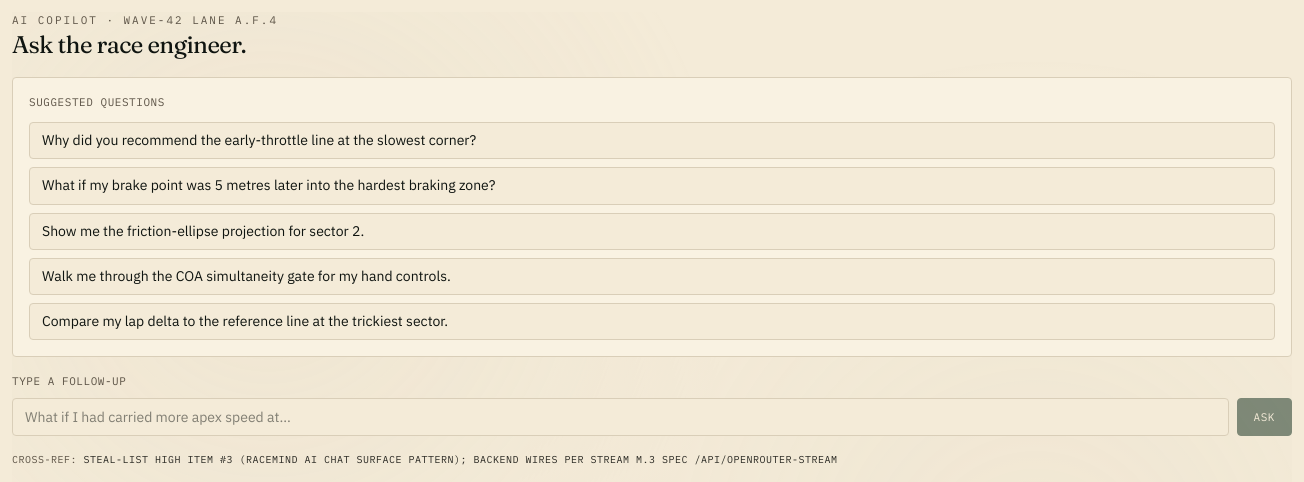
Test: AICopilotChat › renders the error-branch role=alert when streamState=error
Type "Compare my lap delta." into the field at (620, 417), box top-left (12, 398), bottom-right (1228, 436)
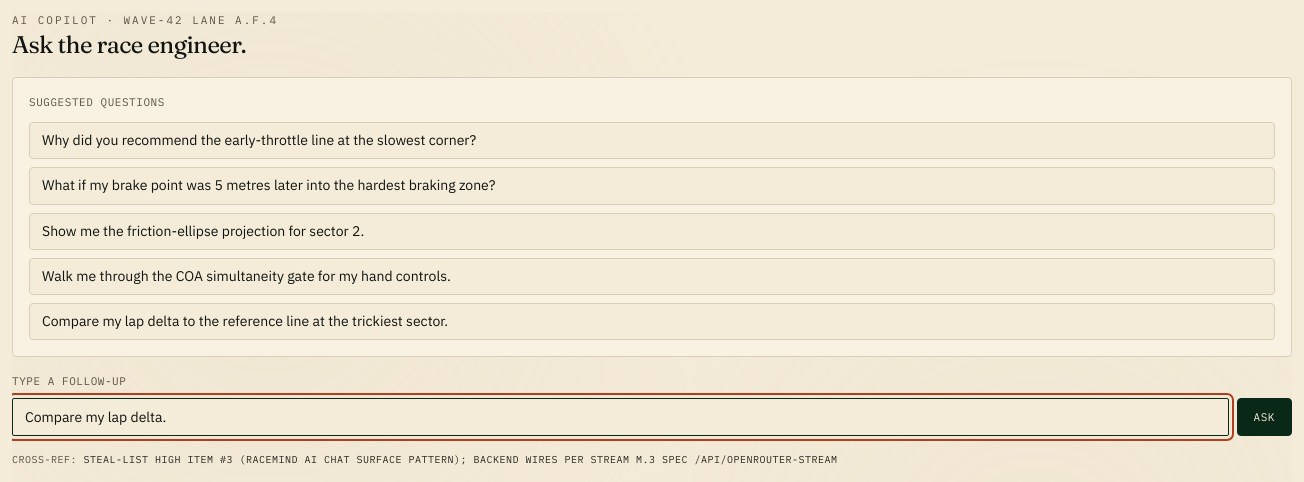
Click the button "Ask" at (1264, 417), box top-left (1236, 398), bottom-right (1292, 436)
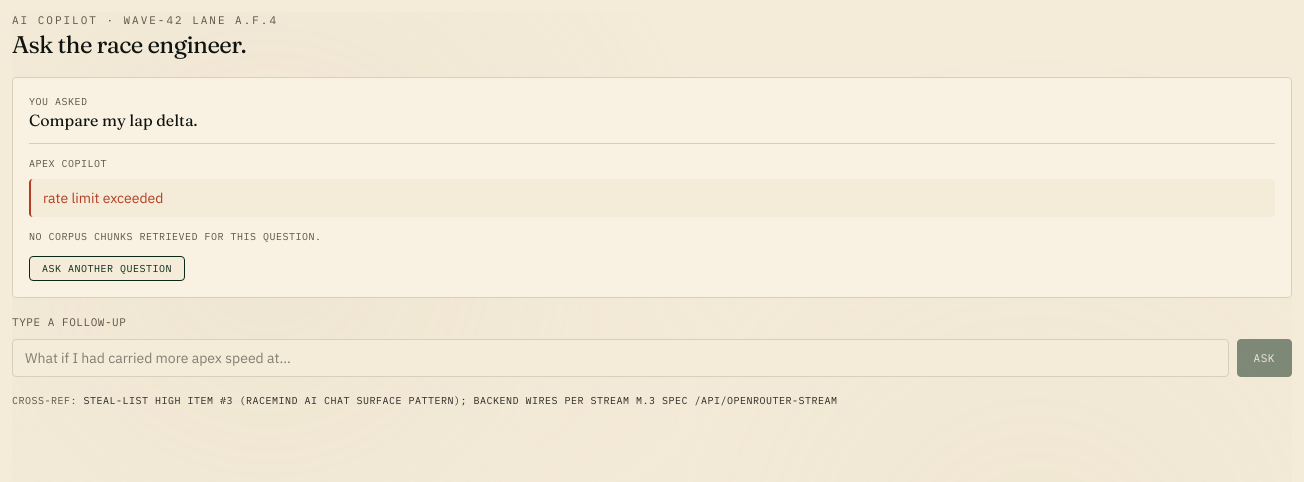
expect the message reads "rate limit exceeded": met, box top-left (43, 188), bottom-right (163, 206)
